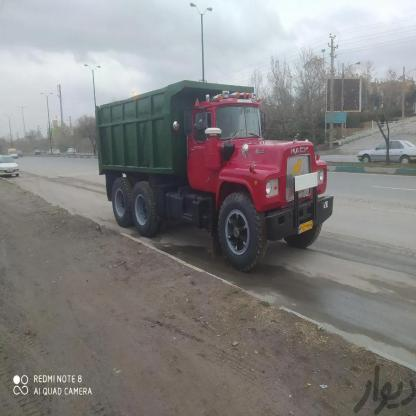Car: (359, 133, 416, 166), (0, 149, 19, 178)
Truck: (87, 79, 334, 268)
